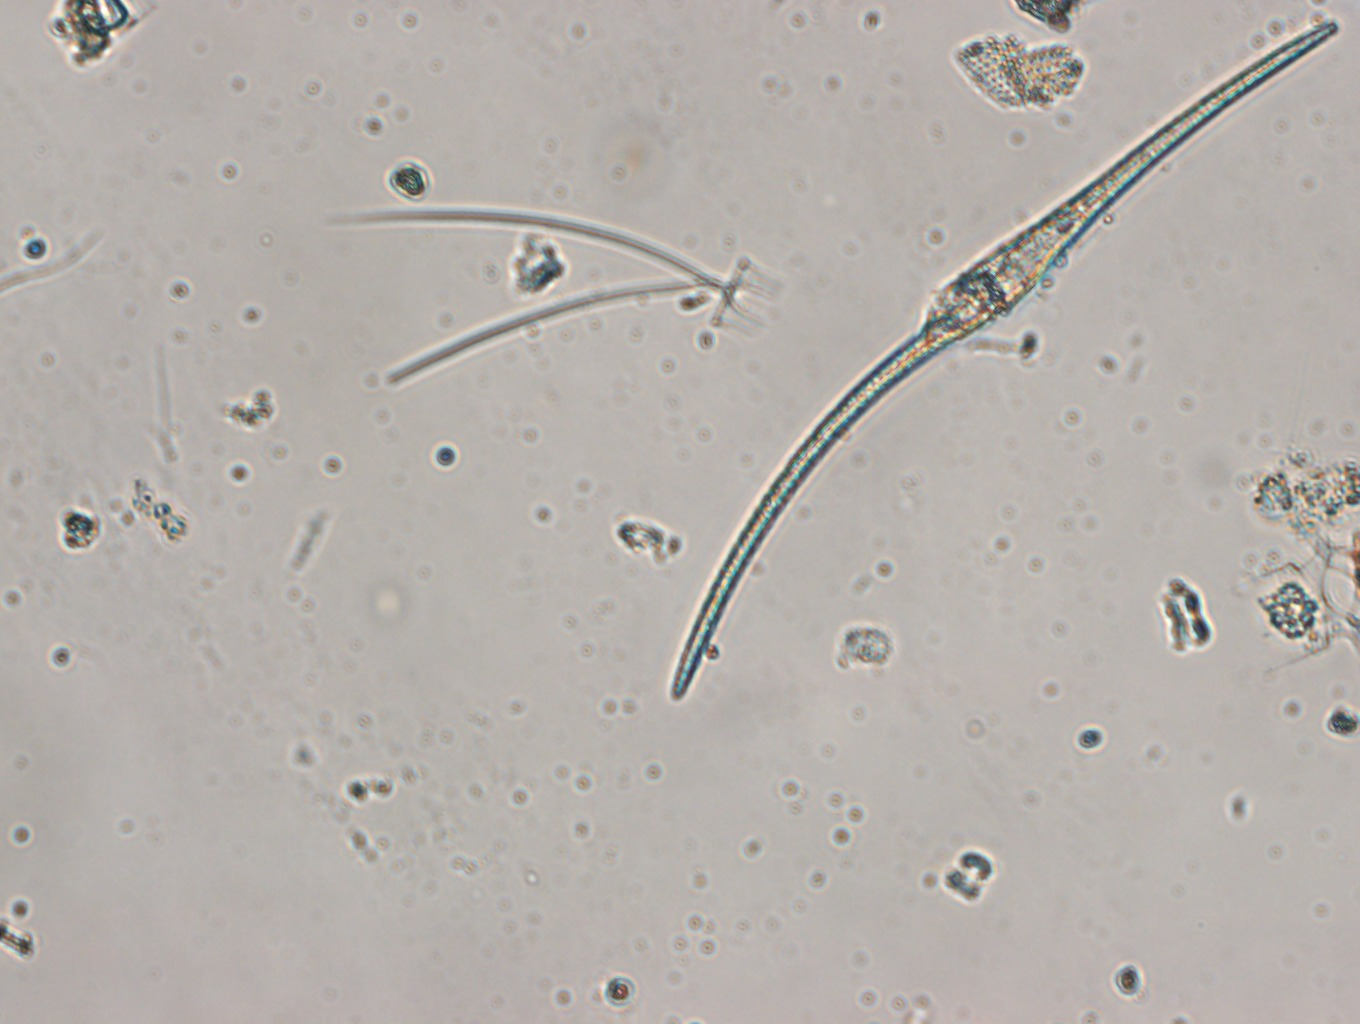ceratium fusus: (652, 16, 1345, 703)
